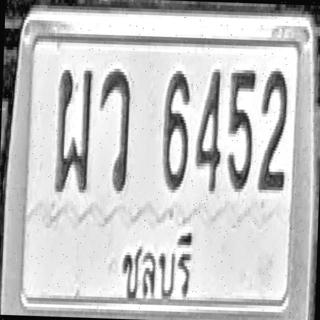A28: (49, 51, 95, 200)
A37: (92, 58, 140, 212)
N02: (257, 59, 293, 208)
N04: (189, 61, 229, 216)
N05: (224, 59, 262, 206)
N06: (154, 62, 196, 198)
P13: (113, 222, 207, 308)
